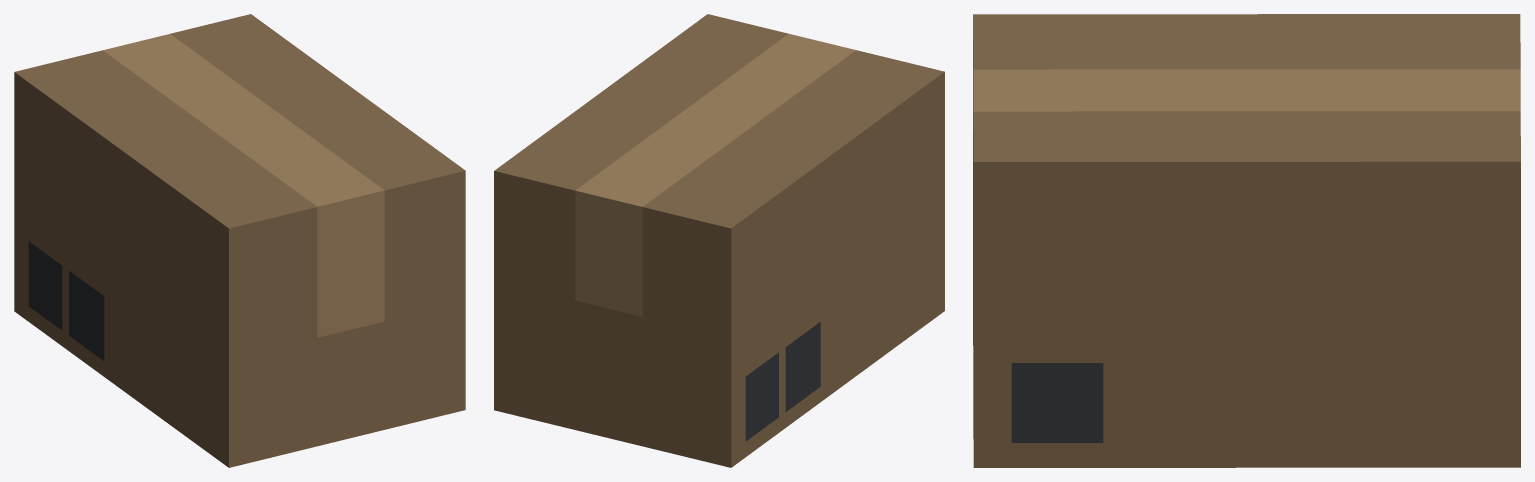
File: SM_Gen_Prop_Cardboard_Box_01.obj
3 views of the same model, side by side, from view 1: azimuth 30°, elevation 25°; view 2: azimuth 150°, elevation 25°; view 3: azimuth 270°, elevation 25° (orthographic). The views are drawn at different scales.
Parts seen in each view (by area): view 1: SM_Gen_Prop_Cardboard_Box_01_0; view 2: SM_Gen_Prop_Cardboard_Box_01_0; view 3: SM_Gen_Prop_Cardboard_Box_01_0.
Boxes of the visible parts, bbox=[...] form: SM_Gen_Prop_Cardboard_Box_01_0: bbox=[14, 14, 465, 467]; SM_Gen_Prop_Cardboard_Box_01_0: bbox=[494, 14, 944, 467]; SM_Gen_Prop_Cardboard_Box_01_0: bbox=[973, 14, 1520, 467].
Size of the model in its own units: 0.3286 by 0.3166 by 0.5138.
1 material, 1 textured.
